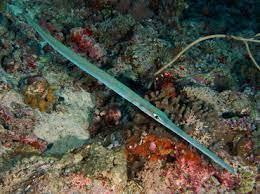Fistularia commersonii: (18, 9, 245, 180)
